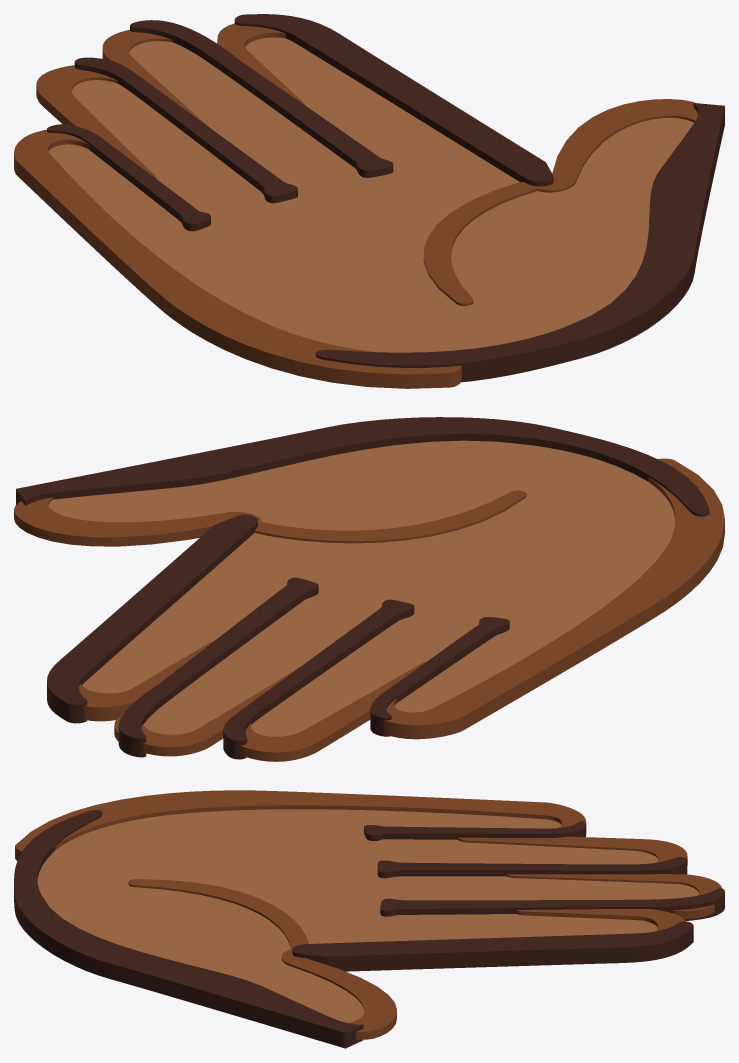
The model's file is emoji_u270b_1f3fe.glb.
3 views of the same model, one above another, from view 1: azimuth 30°, elevation 25°; view 2: azimuth 150°, elevation 25°; view 3: azimuth 270°, elevation 25° (orthographic). The views are drawn at different scales.
Parts seen in each view (by area): view 1: emoji_u270b_1f3fe; view 2: emoji_u270b_1f3fe; view 3: emoji_u270b_1f3fe.
Part boxes in pixels (box(x1,y1,x2,y2)): emoji_u270b_1f3fe: box(14, 14, 724, 388); emoji_u270b_1f3fe: box(14, 417, 724, 761); emoji_u270b_1f3fe: box(14, 790, 724, 1048).
Bounding box in the file's own units: 0.0269 × 0.0008 × 0.033.
